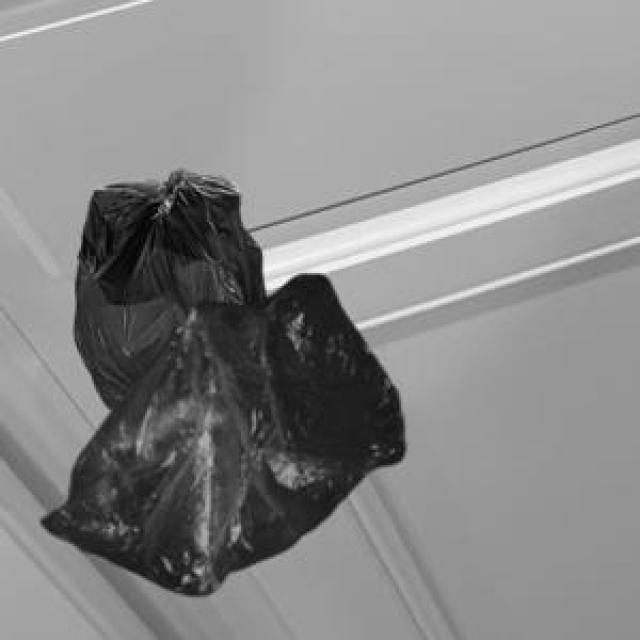miscellaneous trash: (70, 164, 262, 405)
